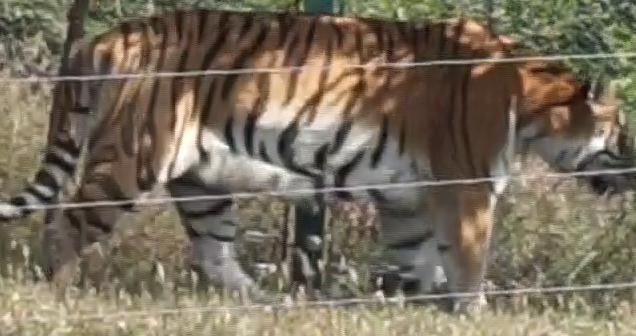tiger: (0, 9, 633, 301)
